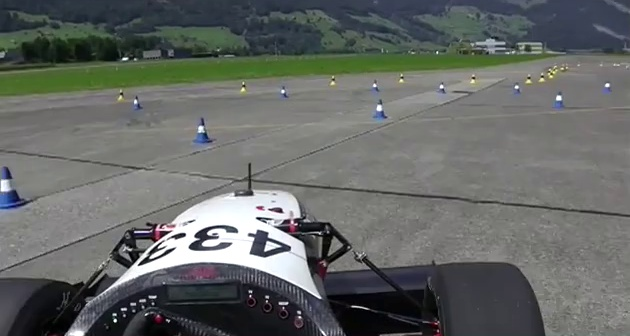Cone: (1, 163, 31, 211), (190, 116, 215, 144), (371, 99, 390, 119), (551, 89, 566, 111), (130, 95, 145, 112), (436, 80, 449, 95), (370, 78, 382, 94), (512, 80, 523, 97), (279, 85, 289, 98)
